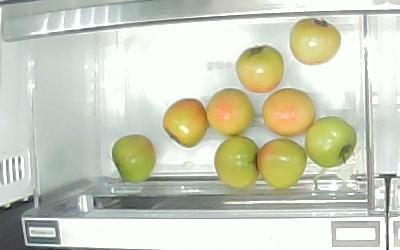tomato: (305, 117, 357, 168), (257, 138, 308, 190), (262, 88, 316, 137), (289, 18, 342, 66), (214, 137, 261, 190), (236, 45, 285, 93), (162, 98, 208, 148), (207, 88, 253, 136), (111, 134, 156, 183)
